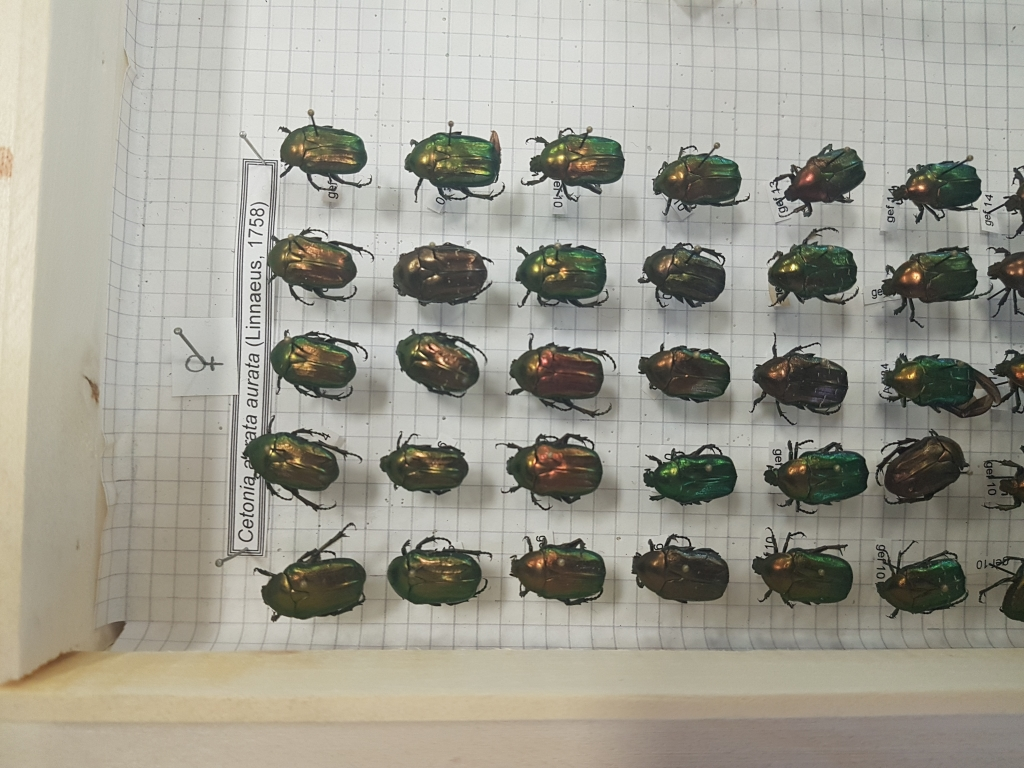Cetonia_aurata: (240, 411, 363, 513), (253, 224, 374, 319), (248, 537, 372, 628), (620, 526, 740, 619), (509, 232, 618, 326), (752, 523, 860, 617), (745, 330, 850, 426), (262, 115, 370, 208), (392, 232, 500, 324), (505, 336, 620, 422), (870, 416, 976, 506), (756, 221, 865, 308), (634, 432, 743, 518), (871, 339, 980, 425), (646, 134, 750, 224), (406, 123, 509, 212), (769, 128, 870, 218), (492, 431, 606, 510), (870, 534, 974, 618), (507, 531, 613, 612), (262, 323, 373, 400), (515, 132, 628, 207), (875, 237, 981, 313), (381, 533, 486, 608), (366, 426, 469, 498), (640, 246, 738, 319), (387, 332, 486, 400), (890, 152, 986, 218), (636, 336, 726, 404)
